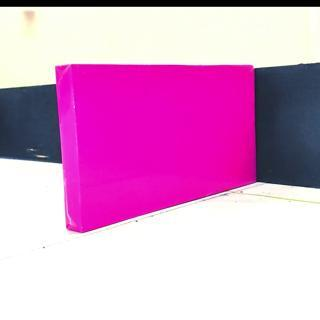xparking: (65, 69, 253, 202)
